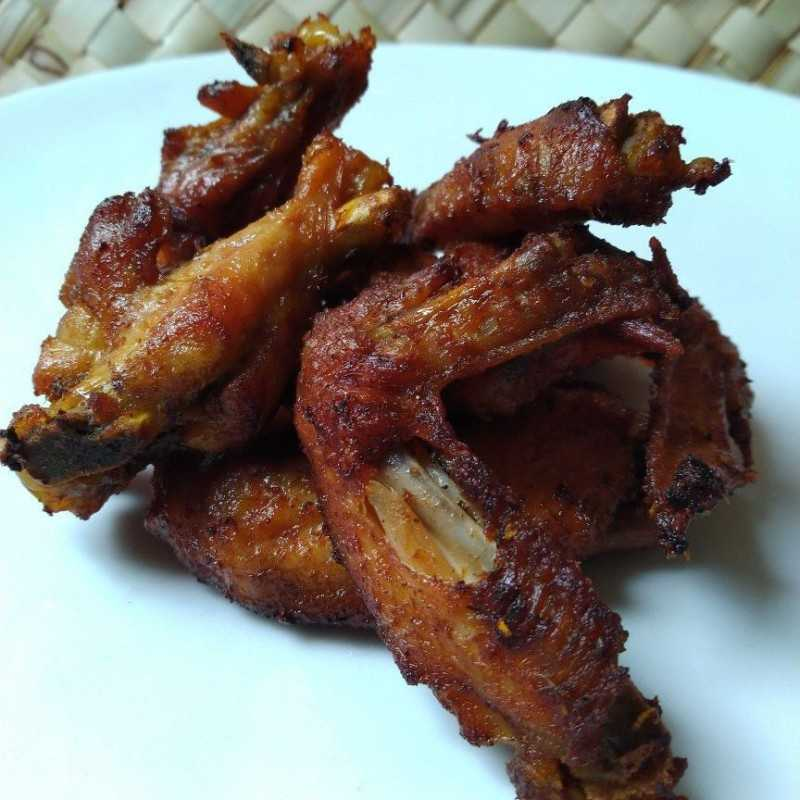Ayam: (8, 220, 732, 762)
